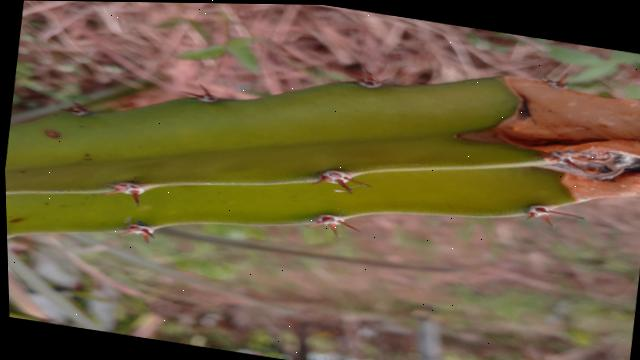stemcanker: (40, 125, 65, 143)
